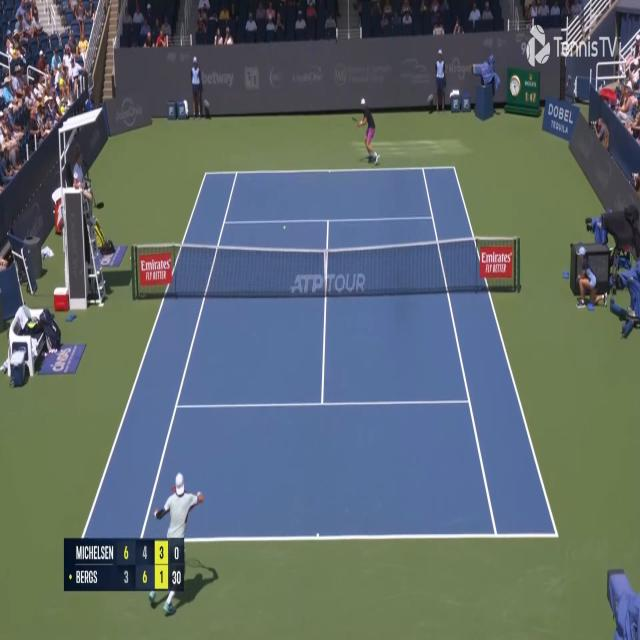tennis-player: (151, 469, 220, 620), (354, 96, 380, 166)
